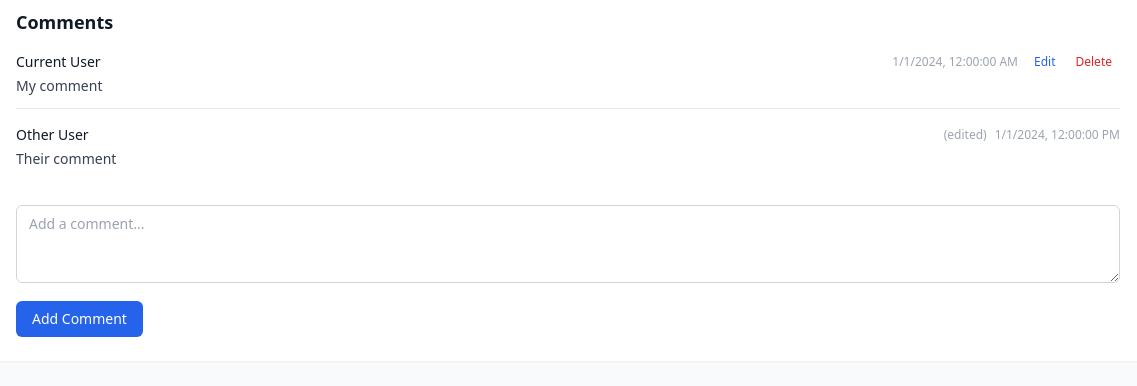
TaskCommentSection › shows validation error for empty comment body
Click the button "Add Comment". click: (79, 319)
box: [16,301,143,337]
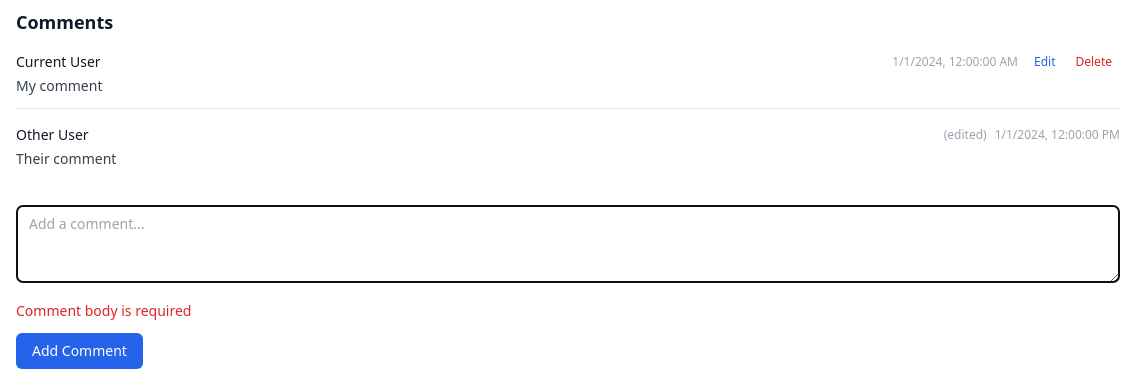
expect the text "Comment body is required" is shown: met, box [16,301,192,320]
